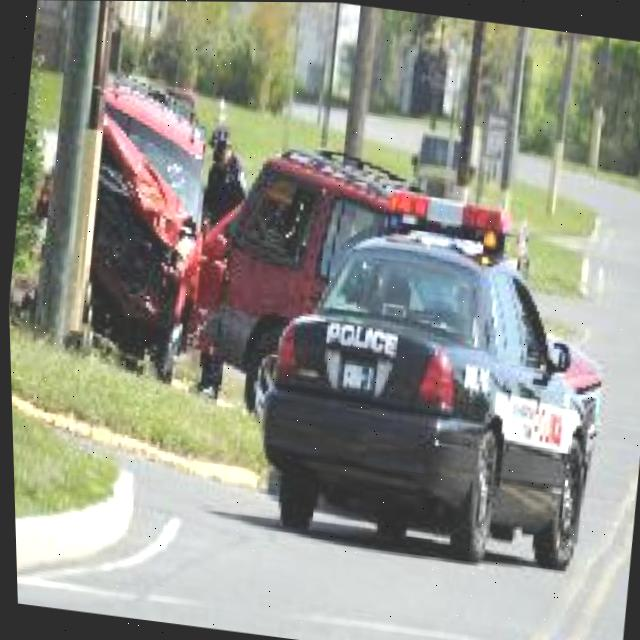emergency: (229, 206, 624, 578)
